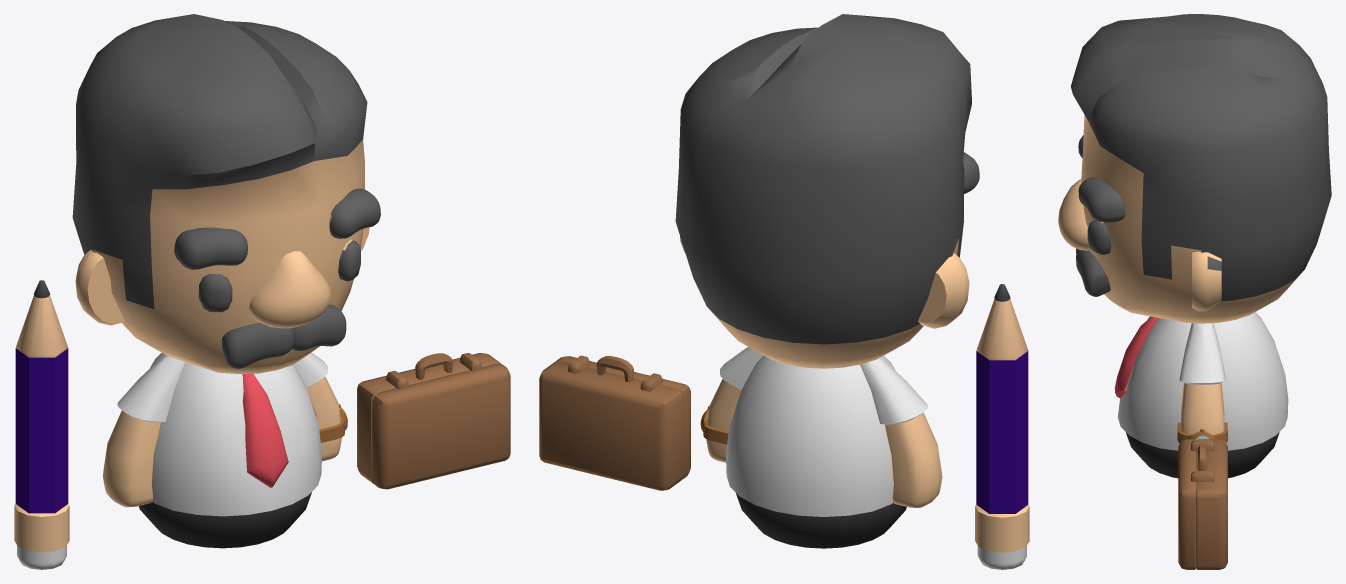
The model's file is enemyBoss.fbx.
3 views of the same model, side by side, from view 1: azimuth 30°, elevation 25°; view 2: azimuth 150°, elevation 25°; view 3: azimuth 270°, elevation 25° (orthographic). The views are drawn at different scales.
Visible parts, largest first — view 1: PrototypePete_head, Case, Pencil; view 2: PrototypePete_head, Case, Pencil; view 3: PrototypePete_head, Case.
Boxes of the visible parts, x1,y1,x2,y2 form: PrototypePete_head: (72, 14, 380, 548); Case: (357, 353, 510, 489); Pencil: (14, 280, 69, 569); PrototypePete_head: (675, 14, 979, 548); Case: (539, 355, 690, 490); Pencil: (975, 284, 1029, 569); PrototypePete_head: (1058, 14, 1331, 478); Case: (1178, 439, 1227, 569).
Size of the model in its own units: 196 by 190 by 112.
